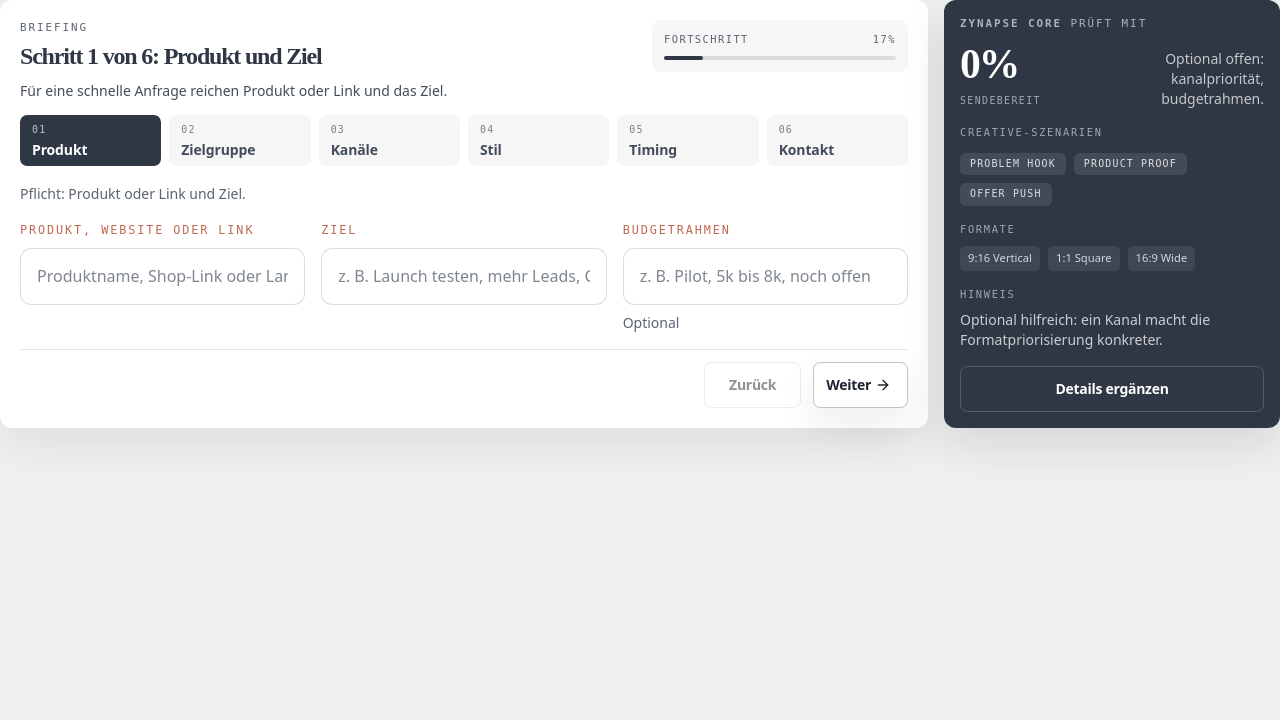
it: BrandInquiryWizard › removes the early submit shortcut and surfaces skipped minimum fields
Expected: the button "Details ergänzen" is shown, [960,366,1264,412]
Click the button named "06Kontakt" at (837, 140), box [767,115,908,166]
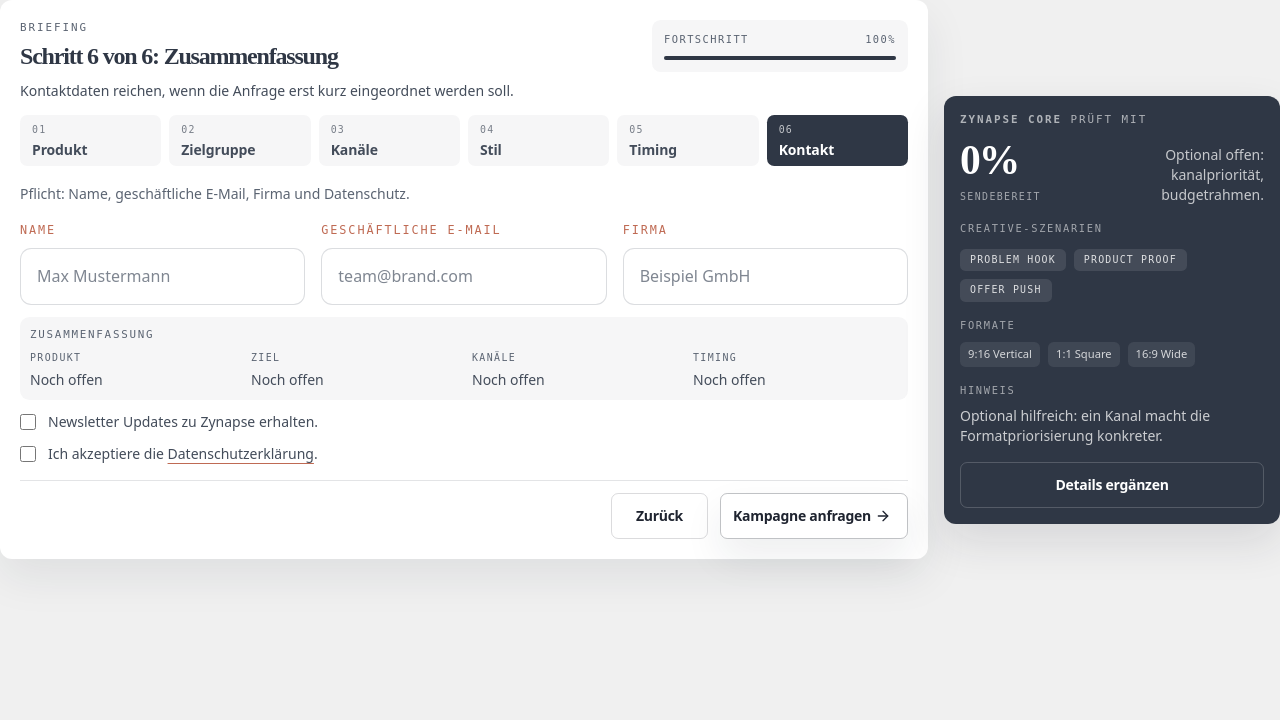
Type "Mia Brand" into the field labelled "Name" at (163, 276), box [20,248,305,304]
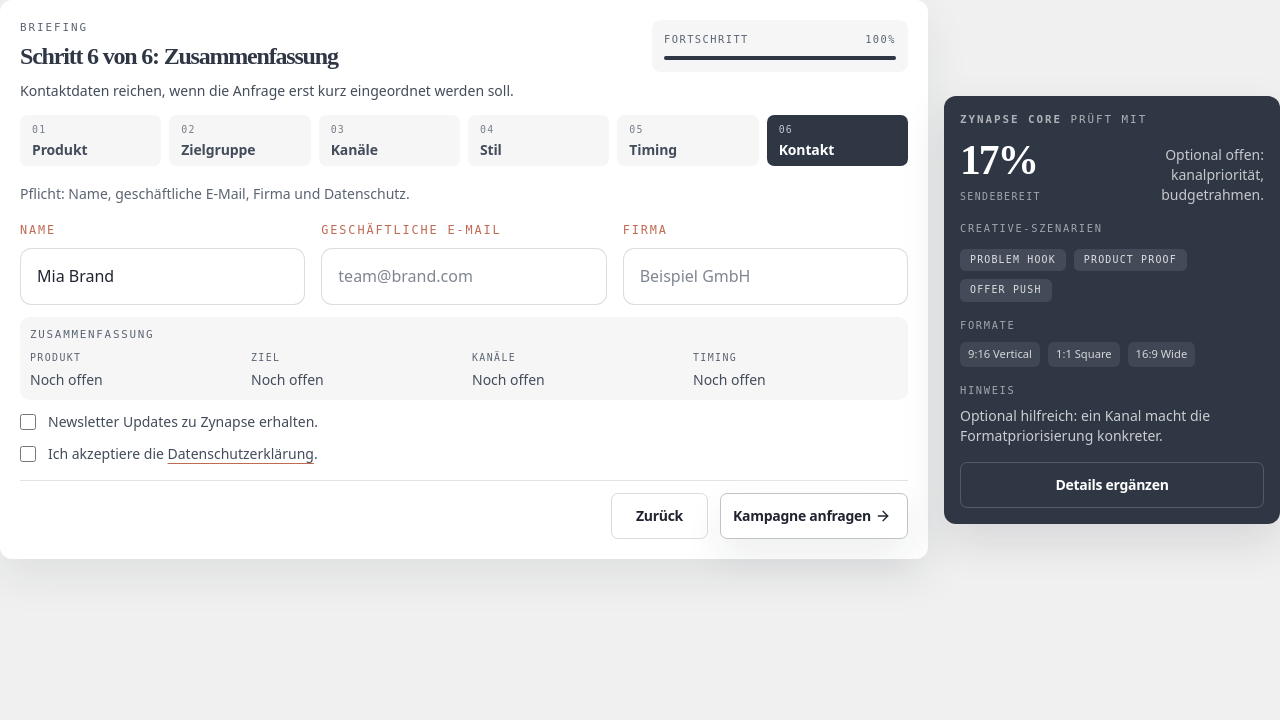
Type "mia@example.com" into the field labelled "Geschäftliche E-Mail" at (464, 276), box [321,248,607,304]
Type "Hydra Labs" into the field labelled "Firma" at (765, 276), box [623,248,908,304]
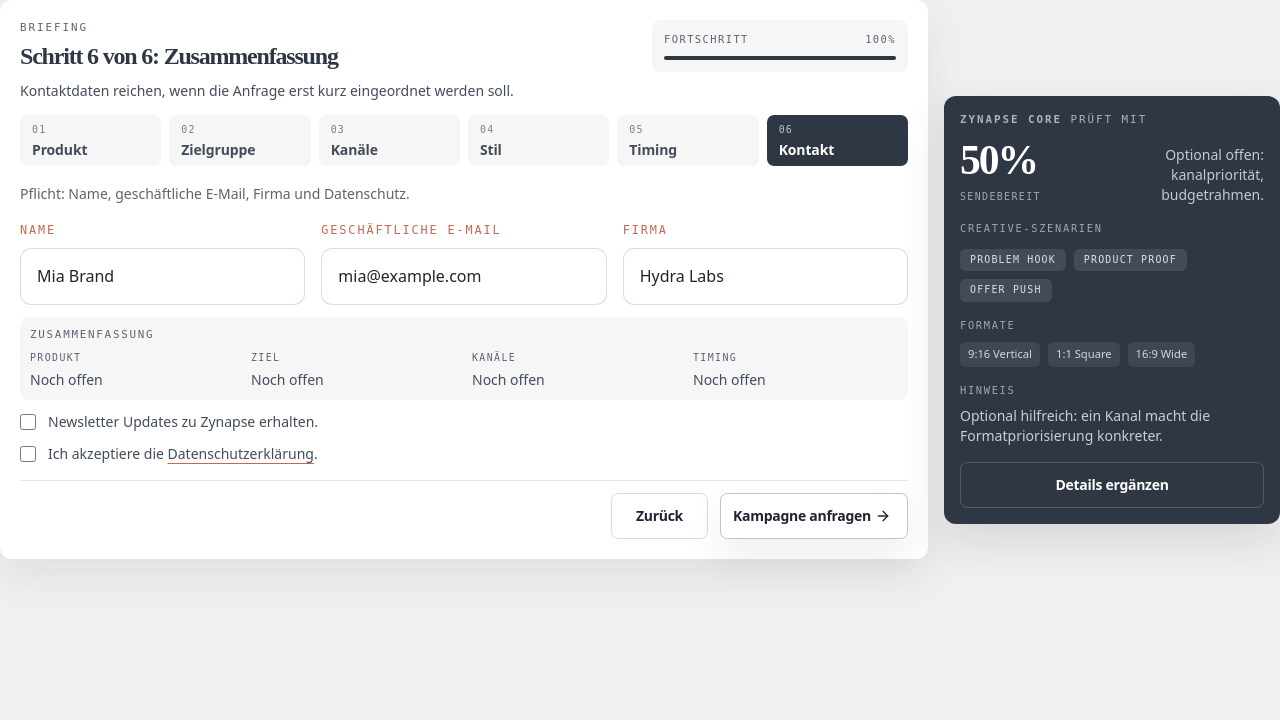
Click the checkbox labelled "Newsletter Updates zu Zynapse erhalten." at (28, 422), box [20,414,36,430]
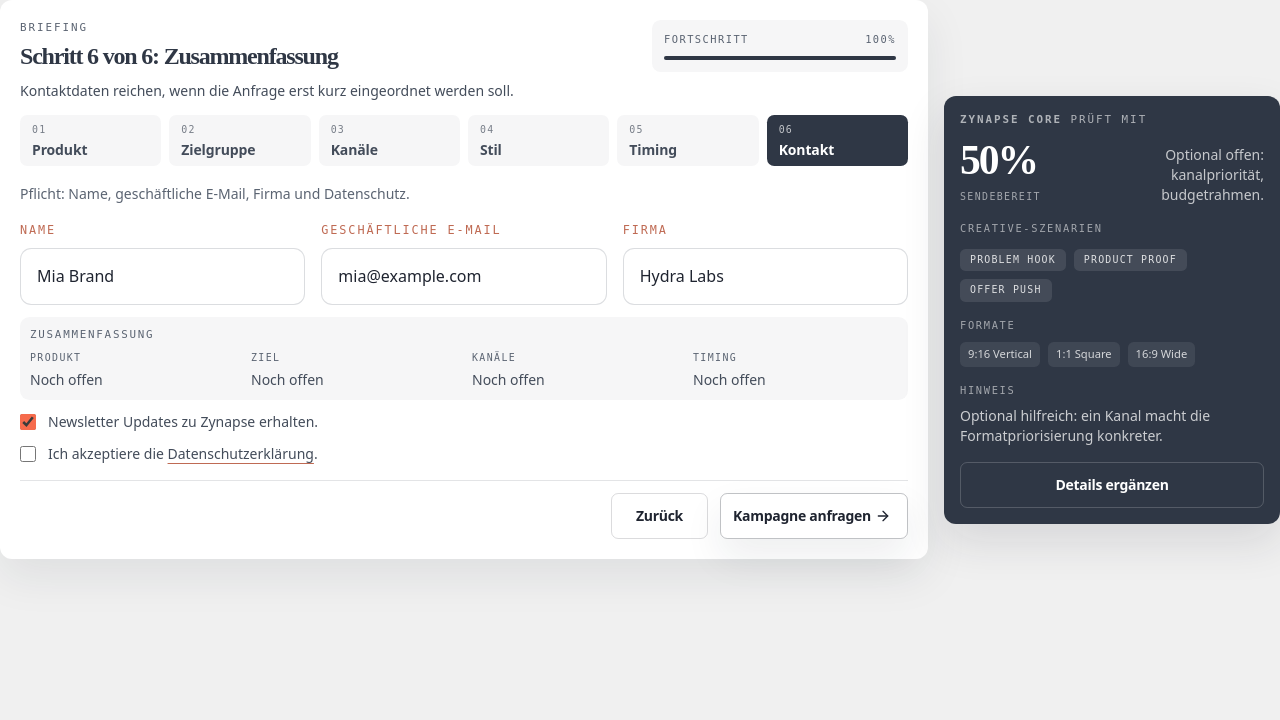
Click the checkbox labelled "Ich akzeptiere die Datenschutzerklärung ." at (28, 454), box [20,446,36,462]
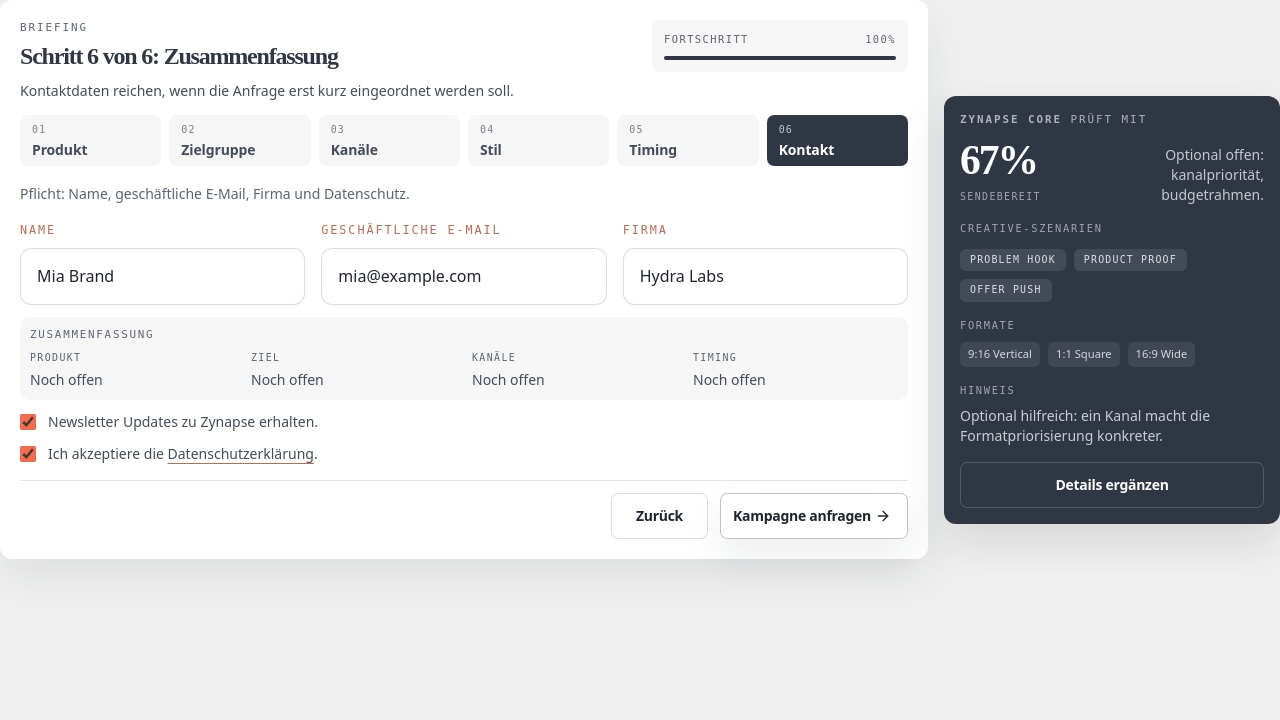
Click the button "Kampagne anfragen" at (814, 516), box [720,493,908,539]
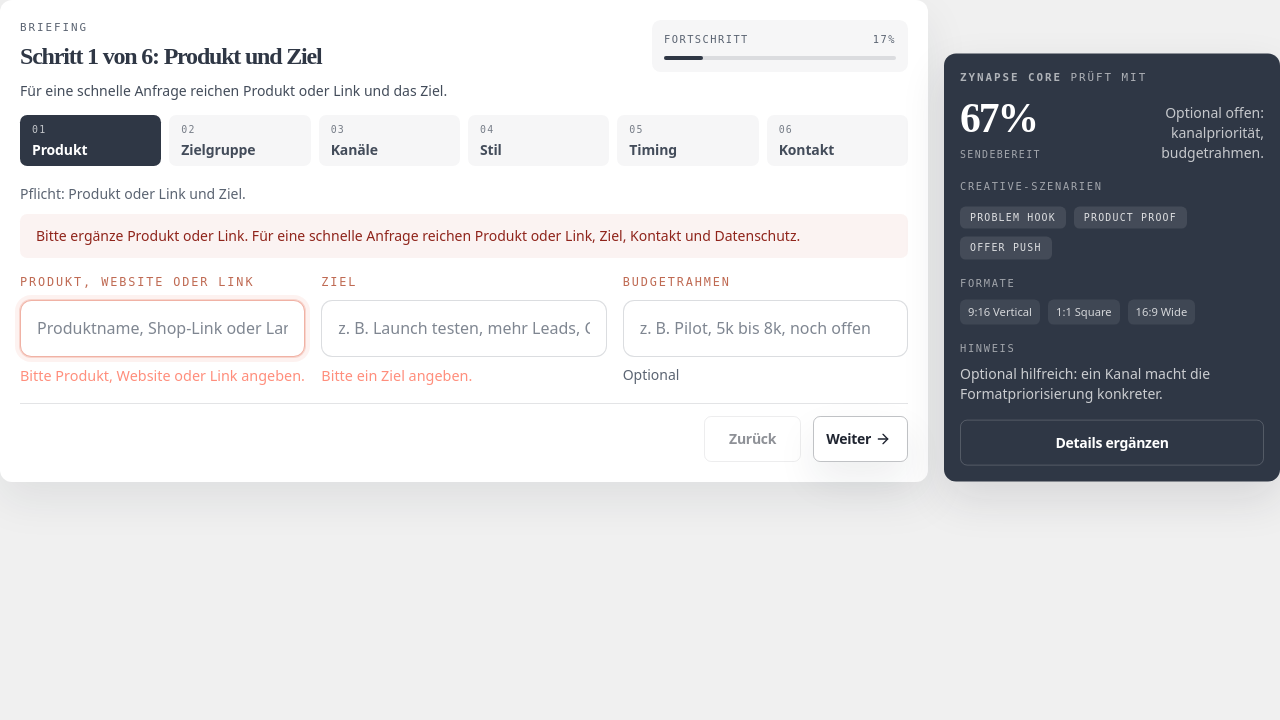
Result: the text "Bitte ergänze Produkt oder Link" is shown at [36,226,800,245]
Result: the heading "Schritt 1 von 6: Produkt und Ziel" is shown at [20,43,321,69]
